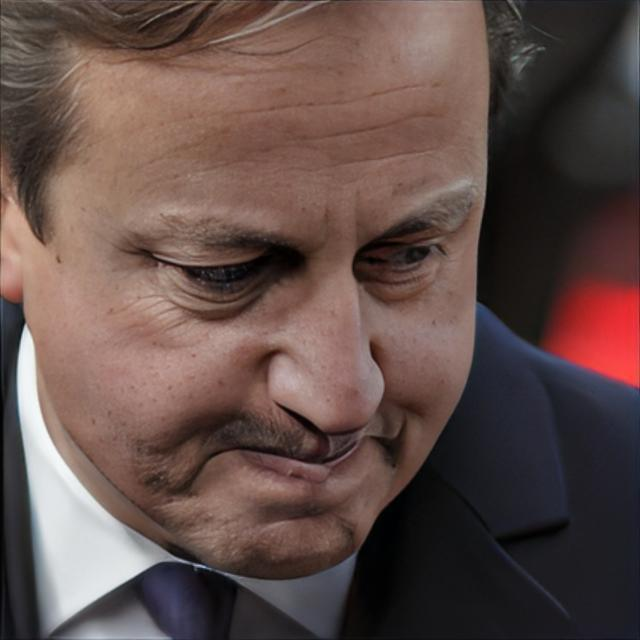sad: (24, 0, 492, 583)
